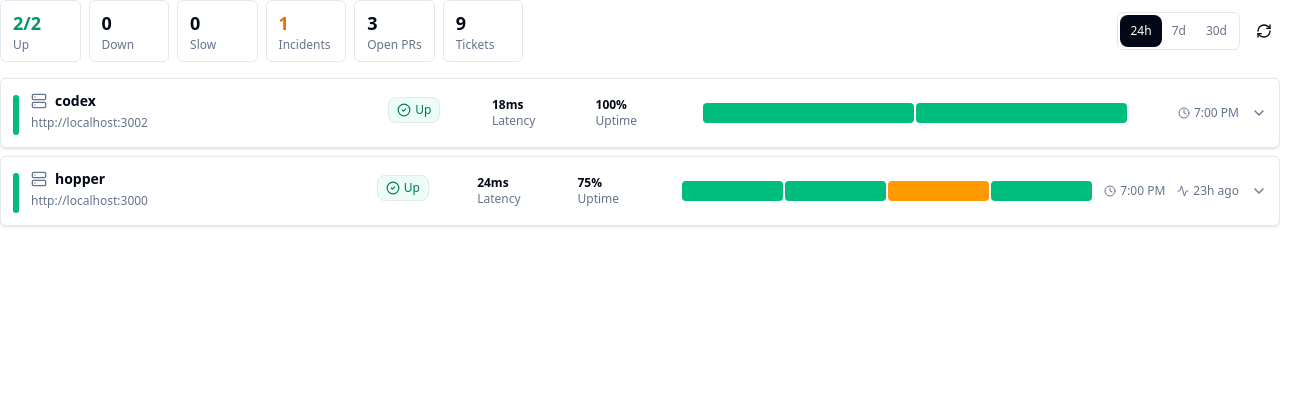
Test: Services › renders service battlestation rows with history
Expected: the text "2/2" is shown, [13,11,41,35]
Expected: the text "Open PRs" is shown, [367,37,422,53]
Click the text "hopper". click: [80, 179]
box: [55,169,105,189]
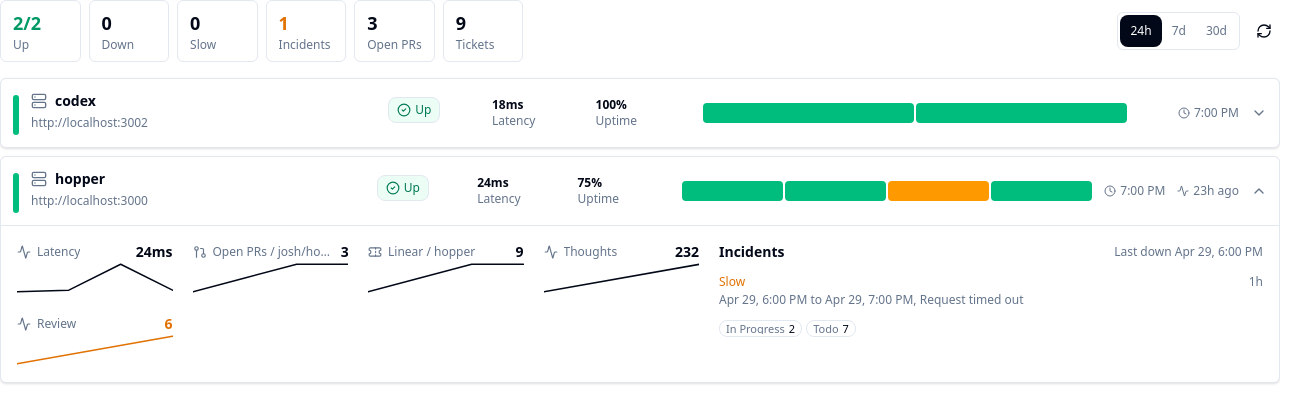
Result: the text "Open PRs / josh/hopper" is shown at [212,244,333,260]
Result: the text "Linear / hopper" is shown at [388,244,475,260]
Result: the text "Thoughts" is shown at [564,244,617,260]
